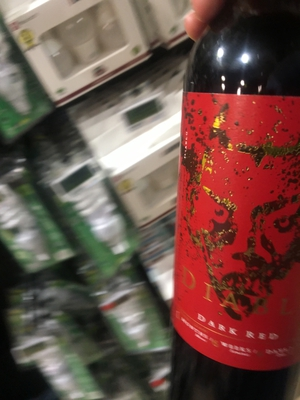diablo dark red: (157, 30, 300, 400)
